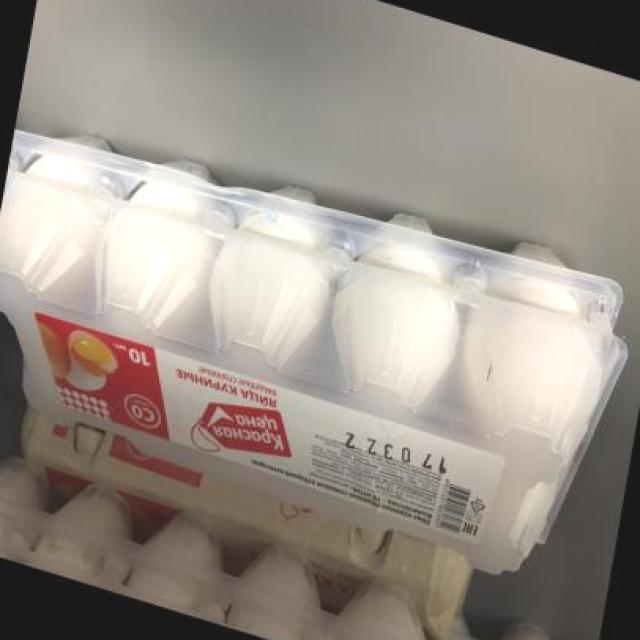egg: (0, 78, 640, 602)
